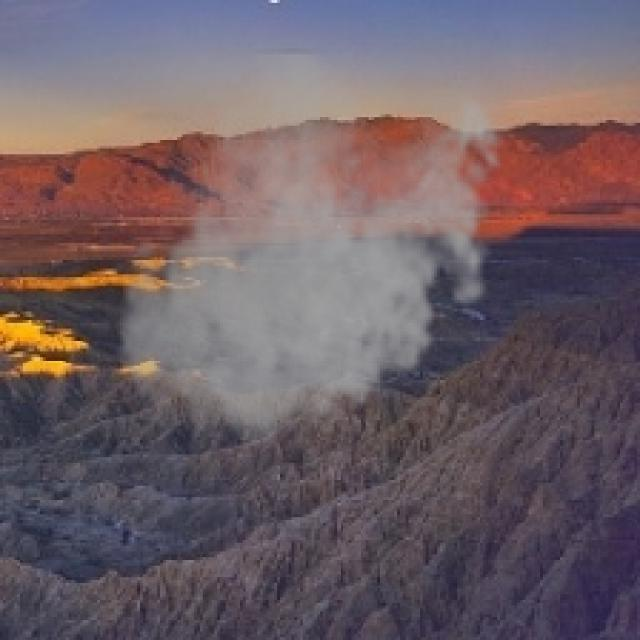Smoke: (108, 48, 514, 463)
